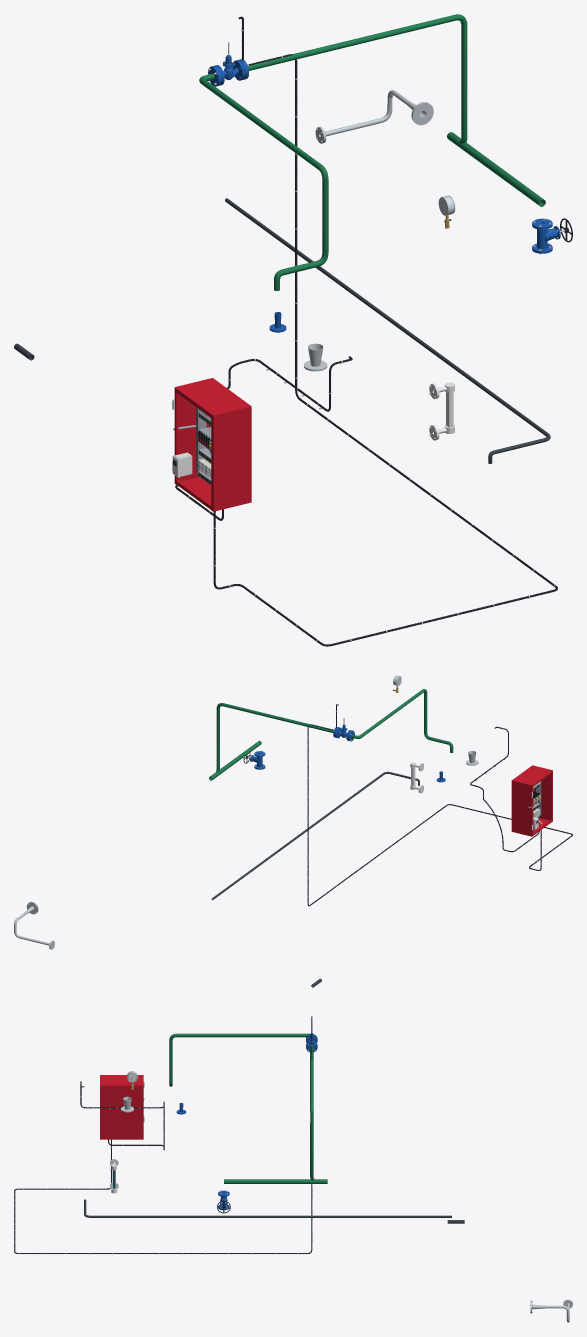
File: s4000-7-BsMyCzBG.glb
3 renders of one model, top to bottom at view 1: azimuth 30°, elevation 25°; view 2: azimuth 150°, elevation 25°; view 3: azimuth 270°, elevation 25°, orthographic. The views are drawn at different scales.
Visible parts, largest first — view 1: control_cabinet / control_cabinet_0.npz, mod_eco_drive_cable / black, to_direct / green, direct_inlet / green, tds_common / dark, fv_to_trap_gap / steel, cabinet_interior / cabinet_interior_0.npz, pump_delivery / green; view 2: control_cabinet / control_cabinet_0.npz, mod_eco_drive_cable / black, to_direct / green, tds_common / dark, direct_inlet / green; view 3: control_cabinet / control_cabinet_0.npz, tds_common / dark, direct_inlet / green, mod_eco_drive_cable / black, to_direct / green, pump_delivery / green, wiring_lp200 / black.
Part boxes in pixels (<box>): control_cabinet / control_cabinet_0.npz: <box>172,378,251,511</box>; mod_eco_drive_cable / black: <box>213,16,557,646</box>; to_direct / green: <box>248,14,467,143</box>; direct_inlet / green: <box>199,73,328,290</box>; tds_common / dark: <box>225,198,550,463</box>; fv_to_trap_gap / steel: <box>315,90,433,143</box>; cabinet_interior / cabinet_interior_0.npz: <box>173,407,211,484</box>; pump_delivery / green: <box>447,132,545,206</box>; control_cabinet / control_cabinet_0.npz: <box>511,765,552,836</box>; mod_eco_drive_cable / black: <box>307,704,572,906</box>; to_direct / green: <box>209,703,333,780</box>; tds_common / dark: <box>211,771,419,900</box>; direct_inlet / green: <box>351,689,453,752</box>; control_cabinet / control_cabinet_0.npz: <box>100,1075,144,1139</box>; tds_common / dark: <box>84,1199,451,1217</box>; direct_inlet / green: <box>169,1033,309,1086</box>; mod_eco_drive_cable / black: <box>14,1016,312,1253</box>; to_direct / green: <box>310,1046,315,1180</box>; pump_delivery / green: <box>224,1179,327,1183</box>; wiring_lp200 / black: <box>80,1081,164,1150</box>.
Bounding box in the file's own units: 4.77 × 3.07 × 6.74.
